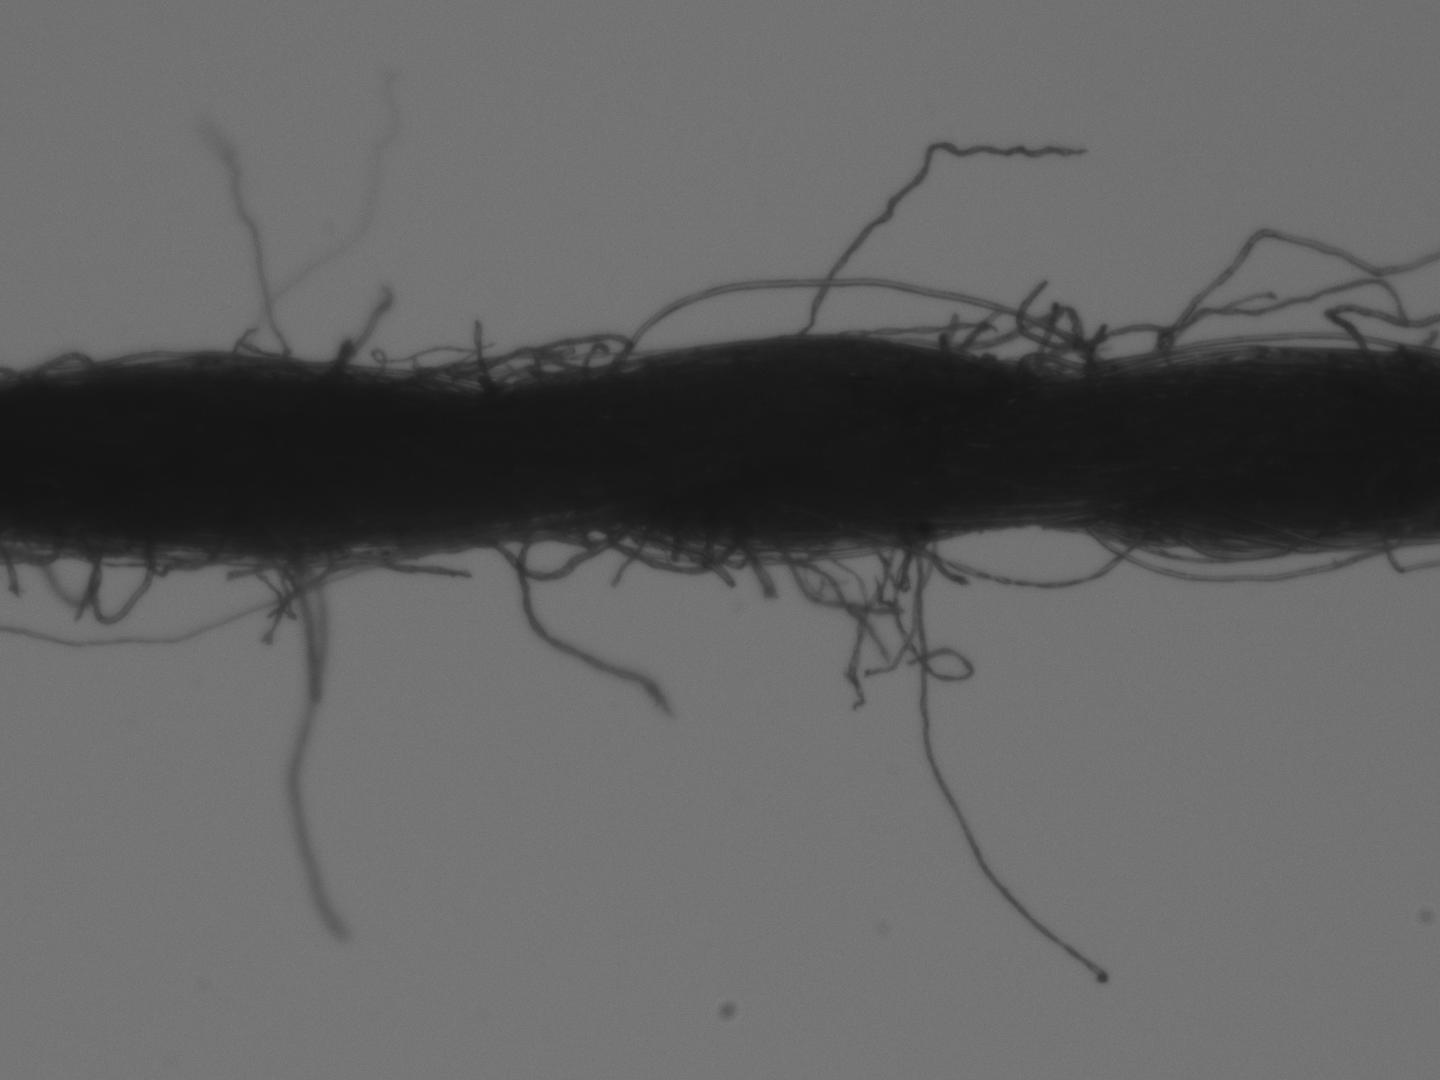loop_fiber: (619, 275, 1094, 377), (895, 520, 1149, 591), (1090, 533, 1382, 588), (941, 302, 1106, 372), (488, 521, 634, 582), (601, 524, 738, 579), (1159, 332, 1404, 361), (458, 345, 638, 381), (1035, 323, 1179, 369), (86, 533, 154, 628), (1117, 532, 1293, 563), (23, 535, 95, 604), (540, 335, 629, 378), (138, 539, 238, 576), (412, 356, 524, 388), (32, 347, 94, 378)
protruding_fiber: (912, 535, 1113, 982), (798, 138, 1084, 331), (514, 535, 683, 716), (280, 558, 351, 945), (213, 125, 289, 354)
